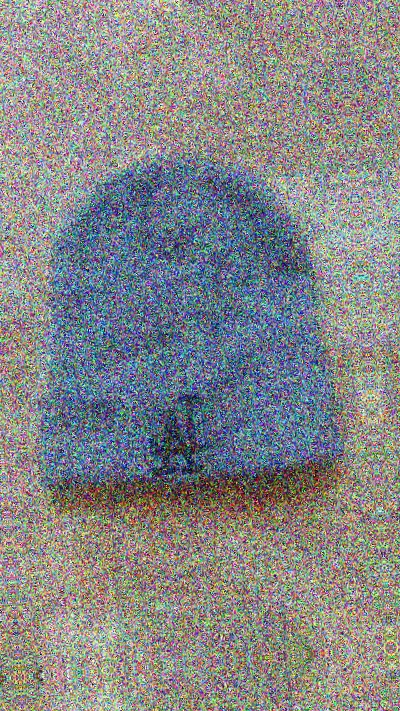Hat: (2, 139, 351, 526), (378, 109, 400, 496)
